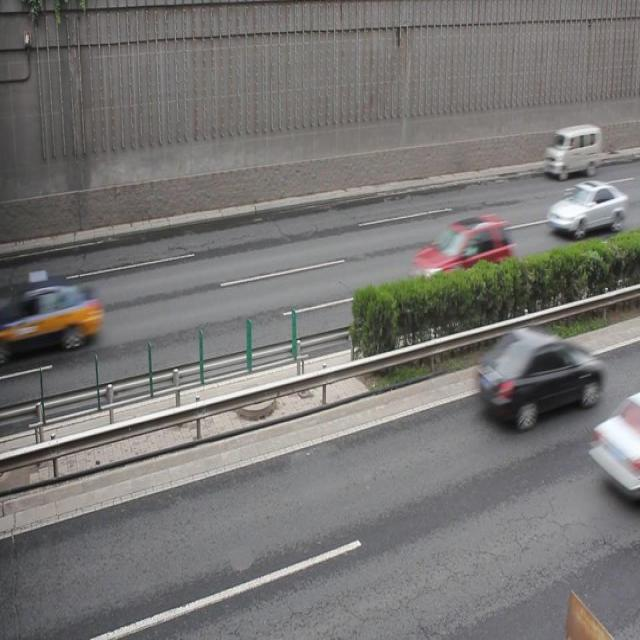car: (475, 327, 601, 426), (411, 213, 512, 298), (15, 275, 103, 356), (544, 180, 622, 234)
truck: (542, 125, 600, 175)
